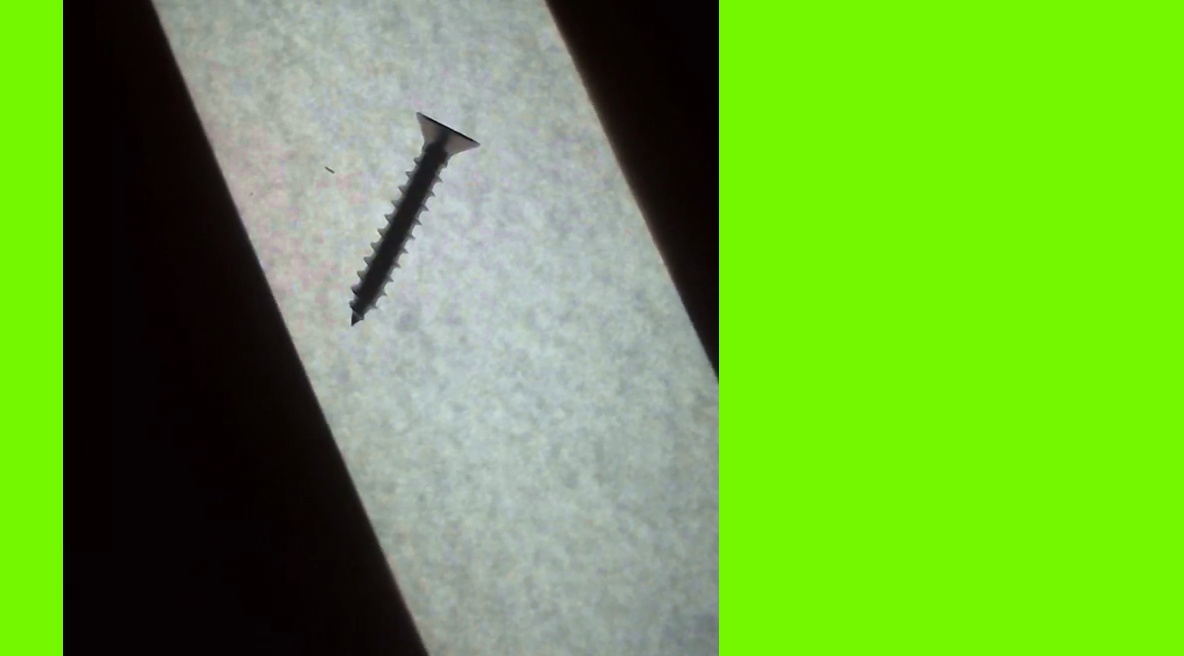S001: (333, 102, 492, 353)
